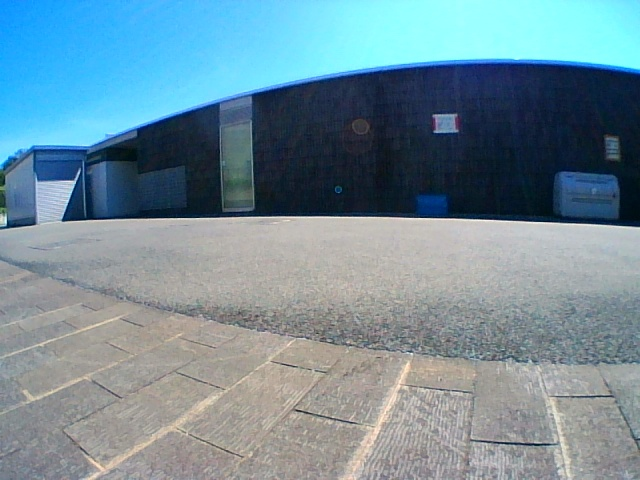blue_box: (416, 194, 445, 216)
